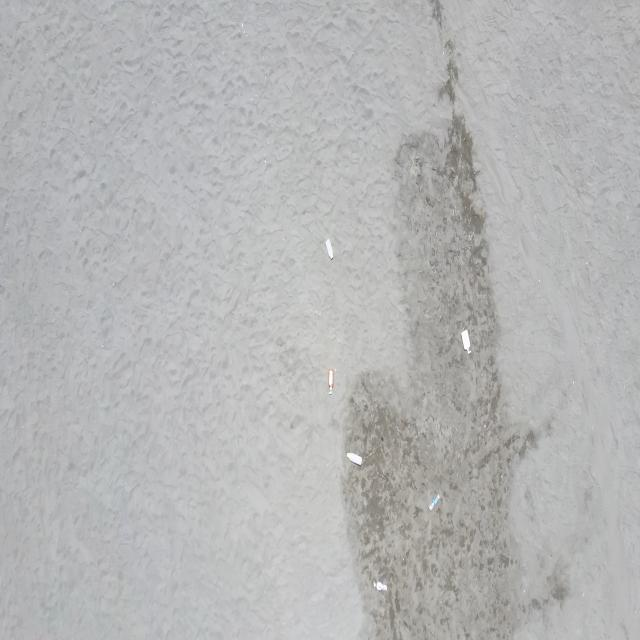plastic-bottle: (345, 450, 364, 468), (460, 328, 472, 355), (427, 492, 440, 514), (327, 369, 336, 395), (372, 580, 389, 593), (325, 237, 334, 261)
